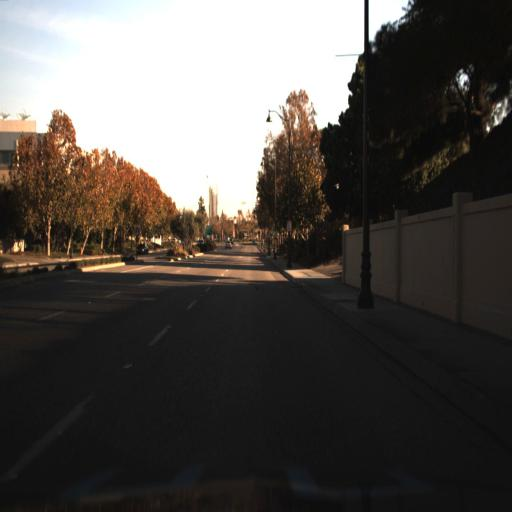car: (221, 231, 236, 254), (132, 240, 152, 257), (134, 239, 150, 256)
